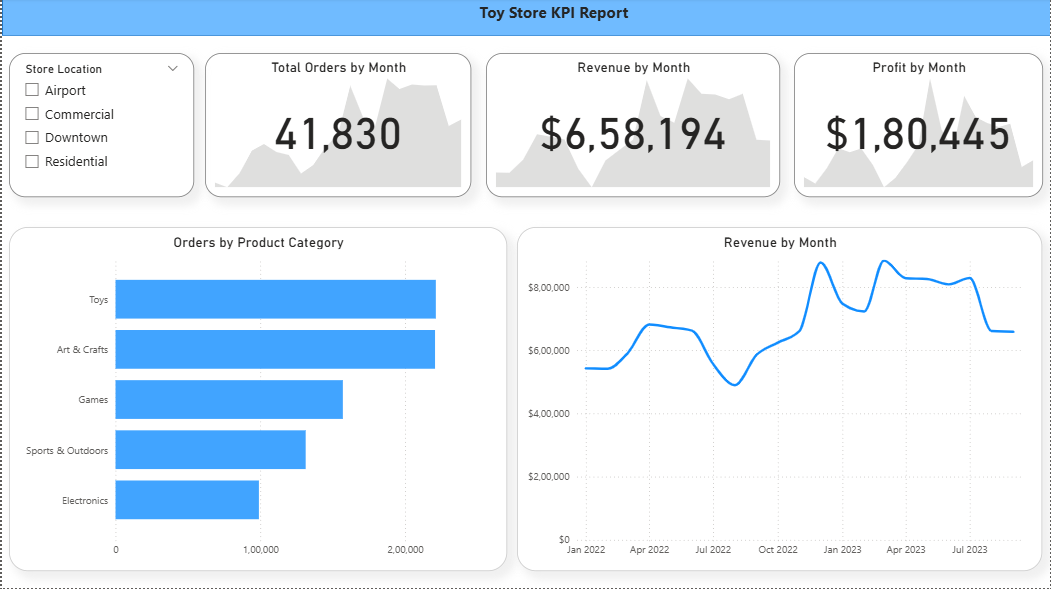

What the dashboard file says about the page in this screenshot:
{"tool":"powerbi","page":{"name":"Page 1","canvas":[1280,720],"ordinal":0},"visuals":[{"type":"kpi","title":"Total Orders by Month","fields":{"Indicator":["sales.Total Orders"],"TrendLine":["calendar.Start of Month"]},"box":[247.7,67.1,324.6,175.7],"z":0},{"type":"kpi","title":"Revenue by Month","fields":{"Indicator":["sales.Total Revenue"],"TrendLine":["calendar.Start of Month"]},"box":[590,67.1,358.8,175.7],"z":1000},{"type":"kpi","title":"Profit by Month","fields":{"Indicator":["sales.Total profit"],"TrendLine":["calendar.Start of Month"]},"box":[966.5,67.1,303.9,175.7],"z":2000},{"type":"slicer","fields":{"Values":["stores.Store_Location"]},"box":[8.5,67.1,225.8,175.7],"z":3000},{"type":"clusteredBarChart","title":"Orders by Product Category","fields":{"Category":["products.Product_Category"],"Y":["sales.Total Orders"]},"box":[8.5,279.5,607.7,419.8],"z":4000},{"type":"lineChart","title":"Revenue by Month","fields":{"Category":["calendar.Start of Month","calendar.Start of Month Hierarchy.Start of Week","calendar.Start of Month Hierarchy.Date"],"Y":["sales.Total Revenue"]},"box":[628.5,279.5,640.7,419.8],"z":5000},{"type":"shape","box":[0,0,1280.1,46.4],"z":6000},{"type":"textbox","box":[529.6,0,288,46.4],"z":7000}]}

Visuals, with their boxes in screenshot pixels (x1, y1, x2, y2), scaled from the page's 1280x720 canvas onto the 1051x589 screenshot:
"Total Orders by Month" kpi: 203:55:470:199
"Revenue by Month" kpi: 484:55:779:199
"Profit by Month" kpi: 794:55:1043:199
slicer - stores.Store_Location: 7:55:192:199
"Orders by Product Category" clusteredBarChart: 7:229:506:572
"Revenue by Month" lineChart: 516:229:1042:572
shape: 0:0:1050:38
textbox: 435:0:671:38
